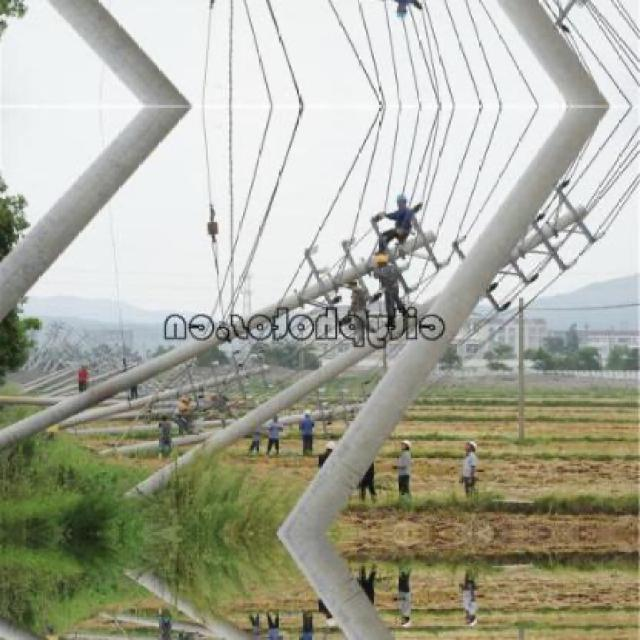con casco: (374, 180, 428, 229)
